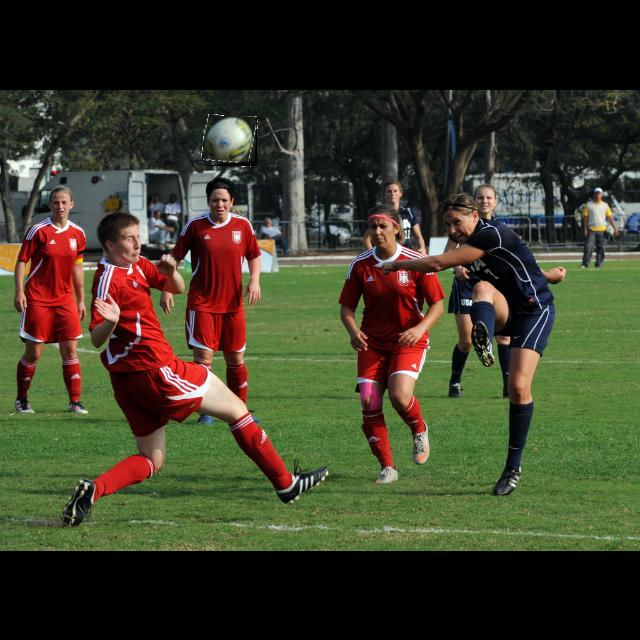Football: (203, 116, 257, 166)
